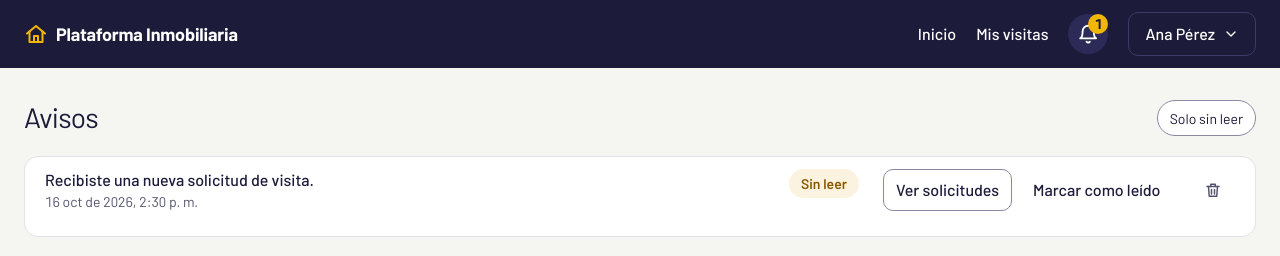
Scenario: NotificationsPage › marks a notification as read with the contract format
Click the button "Marcar como leído" at (1097, 190), box [1020,169,1174,211]
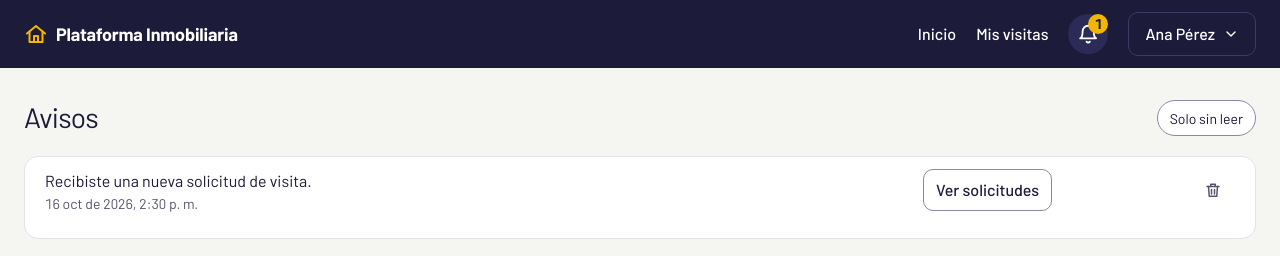
Expected: the button "Marcar como leído" is gone
